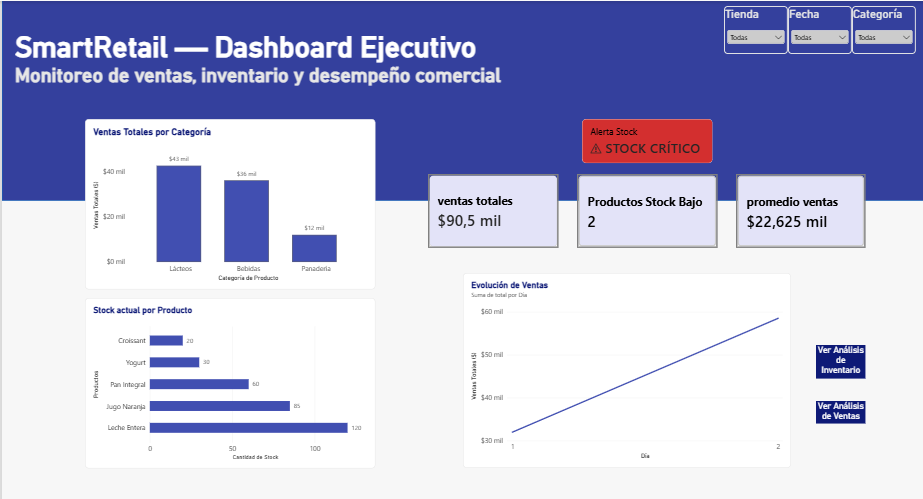

The dashboard page shown, as its layout file describes it:
{"tool":"powerbi","page":{"name":"Dashboard Ejecutivo","canvas":[1920,1080],"ordinal":3},"visuals":[{"type":"shape","box":[0,0,1920,420],"z":0},{"type":"textbox","title":"SmartRetail — Dashboard Ejecutivo","box":[27.5,65,1892.5,165],"z":1000},{"type":"slicer","title":"Tienda","fields":{"Values":["DimTienda.tienda"]},"box":[1505,15,133.3,100],"z":2000},{"type":"slicer","title":"Categoría","fields":{"Values":["DimProducto.categoria"]},"box":[1771.7,15,133.3,100],"z":3000},{"type":"slicer","title":"Fecha","fields":{"Values":["FactVentas.fecha"]},"box":[1638.3,15,133.3,100],"z":4000},{"type":"cardVisual","title":"Ventas Totales","fields":{"Data":["FactVentas.ventas totales"]},"box":[887.5,364.6,272.9,154.2],"z":5000},{"type":"cardVisual","fields":{"Data":["inventario.Productos Stock Bajo"]},"box":[1197.9,364.6,293.8,154.2],"z":6000},{"type":"cardVisual","fields":{"Data":["FactVentas.promedio ventas"]},"box":[1529.2,364.6,270.8,154.2],"z":7000},{"type":"clusteredColumnChart","title":"Ventas Totales por Categoría","fields":{"Category":["DimProducto.categoria"],"Y":["FactVentas.ventas totales"]},"box":[172.5,250,605,355],"z":8000},{"type":"clusteredBarChart","title":"Stock actual por Producto","fields":{"Category":["DimProducto.producto"],"Y":["Sum(inventario.stock_actual)"]},"box":[172.5,622.5,605,355],"z":9000},{"type":"lineChart","title":"Evolución de Ventas","fields":{"Category":["FactVentas.fecha.Variación.Jerarquía de fechas.Año","FactVentas.fecha.Variación.Jerarquía de fechas.Trimestre","FactVentas.fecha.Variación.Jerarquía de fechas.Mes","FactVentas.fecha.Variación.Jerarquía de fechas.Día"],"Y":["Sum(FactVentas.total)"]},"box":[960.4,570.8,683.3,406.2],"z":10000},{"type":"actionButton","title":"Ver Análisis de Ventas","box":[1695,837.5,103.3,46.7],"z":11000},{"type":"actionButton","title":"Ver Análisis de Inventario","box":[1695,720,103.3,70],"z":12000},{"type":"cardVisual","fields":{"Data":["DimProducto.Alerta Stock"]},"box":[1208.3,250,272.5,92.5],"z":13000}]}

Visuals, with their boxes on the page's 1920x1080 design canvas (x1, y1, x2, y2). These are canvas units, not pixel positions in the 923x499 screenshot, which may show the page scaled, cropped or inside an application window:
shape: 0/0/1920/420
"SmartRetail — Dashboard Ejecutivo" textbox: 28/65/1920/230
"Tienda" slicer: 1505/15/1638/115
"Categoría" slicer: 1772/15/1905/115
"Fecha" slicer: 1638/15/1772/115
"Ventas Totales" cardVisual: 888/365/1160/519
cardVisual - inventario.Productos Stock Bajo: 1198/365/1492/519
cardVisual - FactVentas.promedio ventas: 1529/365/1800/519
"Ventas Totales por Categoría" clusteredColumnChart: 172/250/778/605
"Stock actual por Producto" clusteredBarChart: 172/622/778/978
"Evolución de Ventas" lineChart: 960/571/1644/977
"Ver Análisis de Ventas" actionButton: 1695/838/1798/884
"Ver Análisis de Inventario" actionButton: 1695/720/1798/790
cardVisual - DimProducto.Alerta Stock: 1208/250/1481/342
